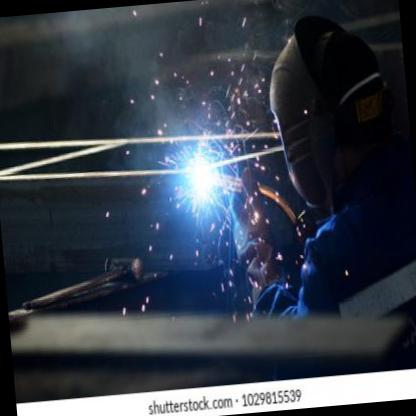Gloves: (226, 166, 285, 297)
